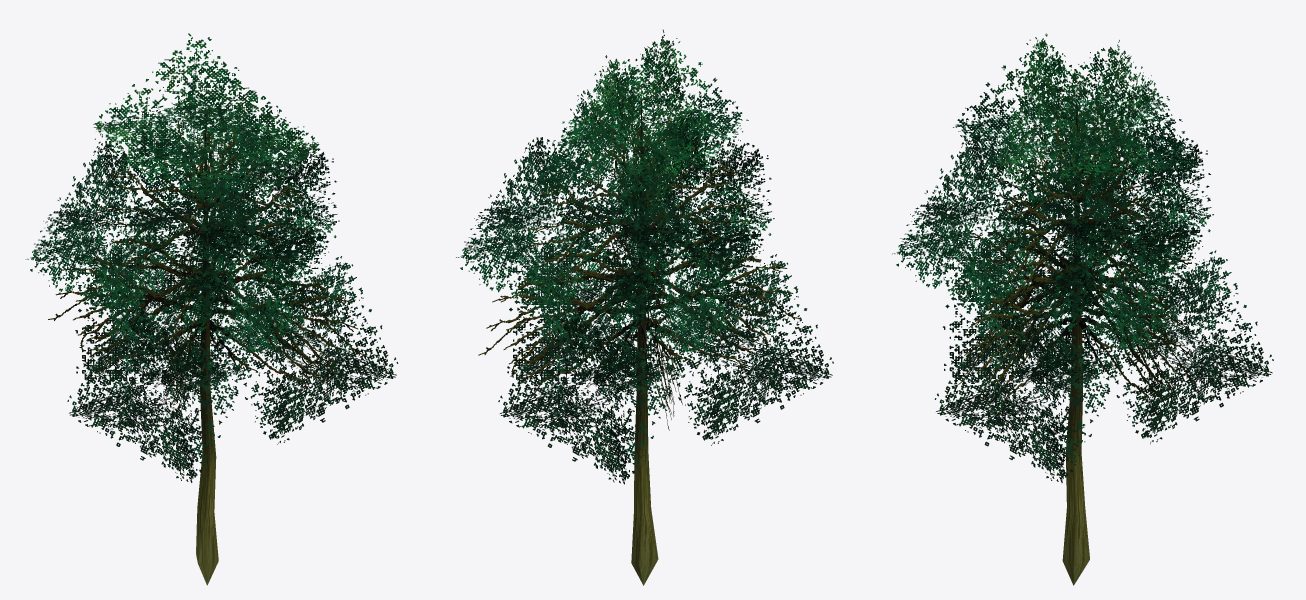
File: beuk_1.fbx
The picture shows the model from 3 angles, left to right: view 1: azimuth 30°, elevation 25°; view 2: azimuth 150°, elevation 25°; view 3: azimuth 270°, elevation 25°; orthographic projection. The views are drawn at different scales.
Visible parts, largest first — view 1: beuk_1; view 2: beuk_1; view 3: beuk_1.
Part boxes in pixels (box(x1,y1,x2,y2)): beuk_1: box(25, 33, 398, 585); beuk_1: box(456, 29, 833, 585); beuk_1: box(892, 33, 1273, 585).
Bounding box in the file's own units: 450 × 678 × 446.
